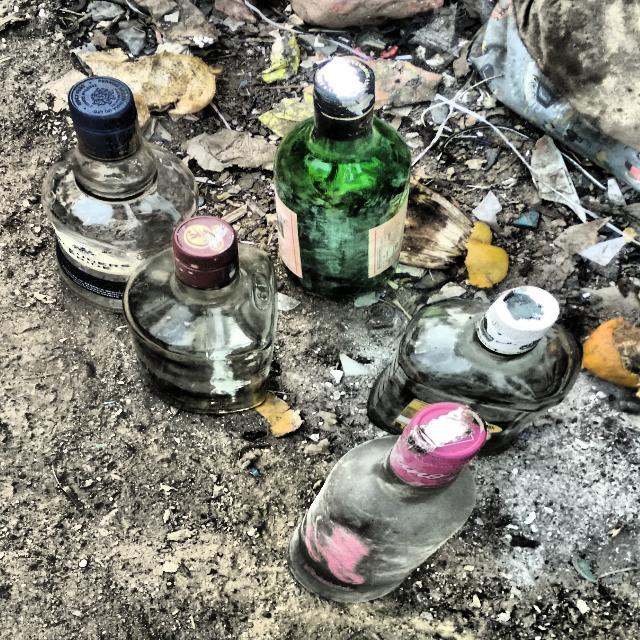anorganik: (286, 402, 485, 606), (45, 77, 195, 313), (378, 287, 581, 457), (274, 56, 412, 305), (124, 211, 278, 418)
organik: (72, 48, 223, 127), (580, 318, 640, 396), (462, 216, 512, 295)
